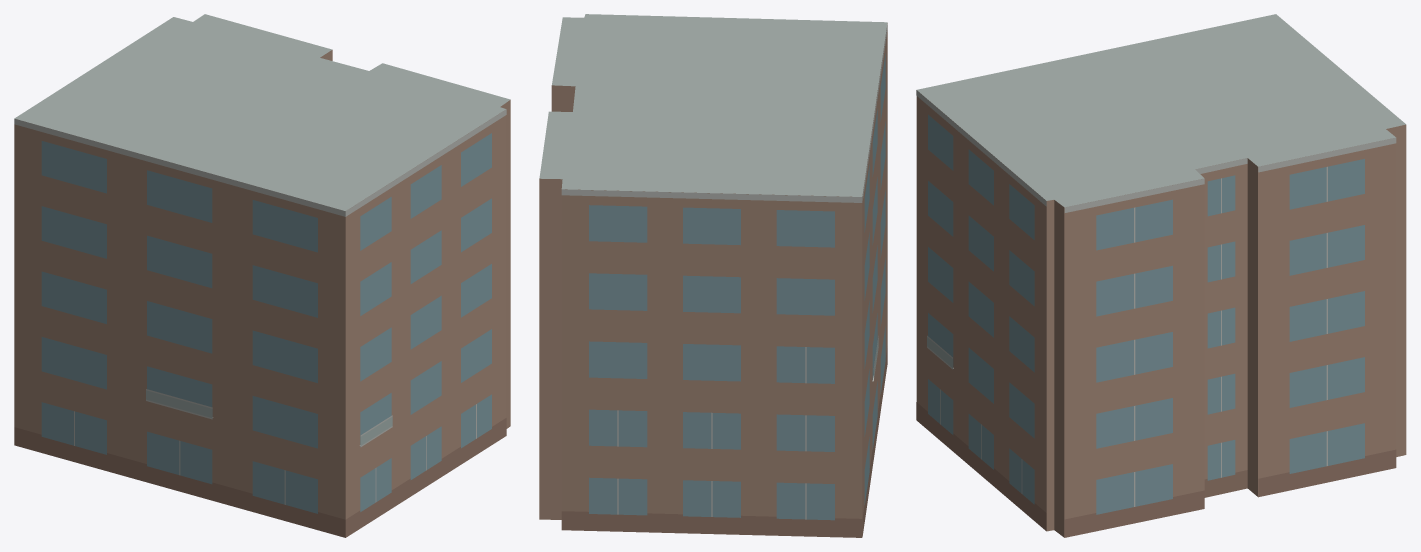
Rendered from survey-upis-32835653.glb.
3 views of the same model, side by side, from view 1: azimuth 30°, elevation 25°; view 2: azimuth 150°, elevation 25°; view 3: azimuth 270°, elevation 25° (orthographic). The views are drawn at different scales.
Parts seen in each view (by area): view 1: survey-upis-32835653.tmp; view 2: survey-upis-32835653.tmp; view 3: survey-upis-32835653.tmp.
Boxes of the visible parts, x1,y1,x2,y2 form: survey-upis-32835653.tmp: [14, 14, 510, 537]; survey-upis-32835653.tmp: [539, 14, 887, 537]; survey-upis-32835653.tmp: [916, 14, 1406, 537].
Bounding box in the file's own units: 17.46 × 13.9 × 18.69.
